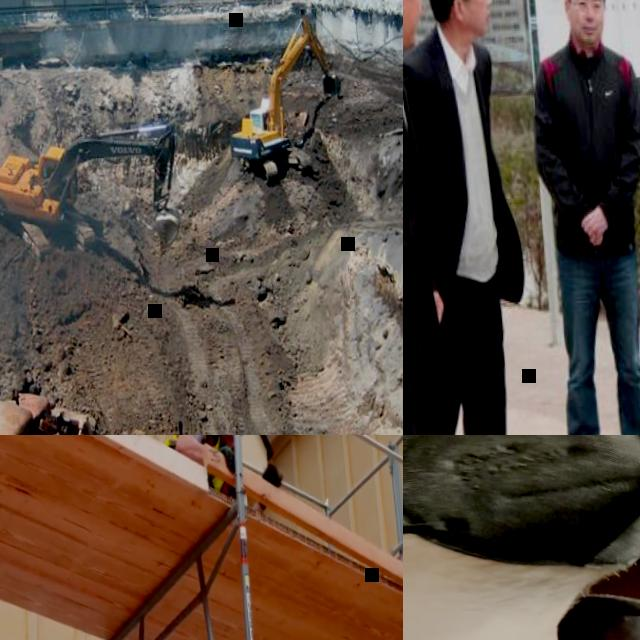Mask: (403, 435, 640, 597)
NO-Mask: (570, 15, 605, 48), (403, 0, 424, 50), (461, 4, 490, 36)
NO-Safety Vest: (405, 35, 505, 291), (544, 46, 636, 245), (403, 24, 432, 372)
Person: (517, 0, 640, 435), (403, 0, 520, 435), (403, 435, 640, 640), (403, 0, 458, 435), (161, 435, 268, 500)
Safety Vest: (163, 435, 236, 497)
vehicle: (0, 114, 184, 265), (220, 12, 349, 186), (0, 376, 102, 435), (108, 413, 231, 435)
